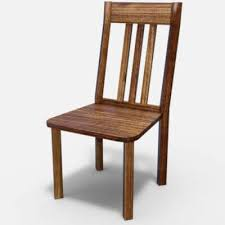tiyarina: (41, 2, 172, 218)
